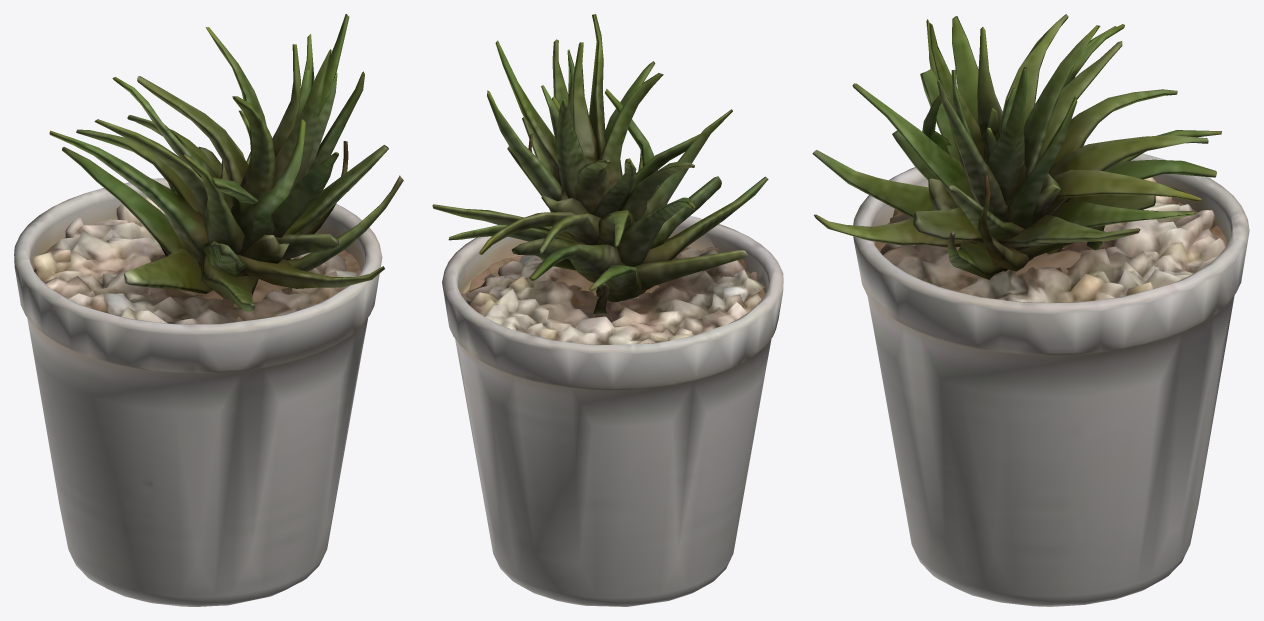
Rendered from suculenta.glb.
The picture shows the model from 3 angles, left to right: view 1: azimuth 30°, elevation 25°; view 2: azimuth 150°, elevation 25°; view 3: azimuth 270°, elevation 25°; orthographic projection. The views are drawn at different scales.
Visible parts, largest first — view 1: potted_plant_04_ground; view 2: potted_plant_04_ground; view 3: potted_plant_04_ground.
Boxes of the visible parts, left/top/right/bottom form: potted_plant_04_ground: left=14, top=14, right=403, bottom=606; potted_plant_04_ground: left=432, top=14, right=783, bottom=606; potted_plant_04_ground: left=812, top=14, right=1249, bottom=606.
Bounding box in the file's own units: 0.1674 × 0.2672 × 0.1847.
1 material, 1 textured.
